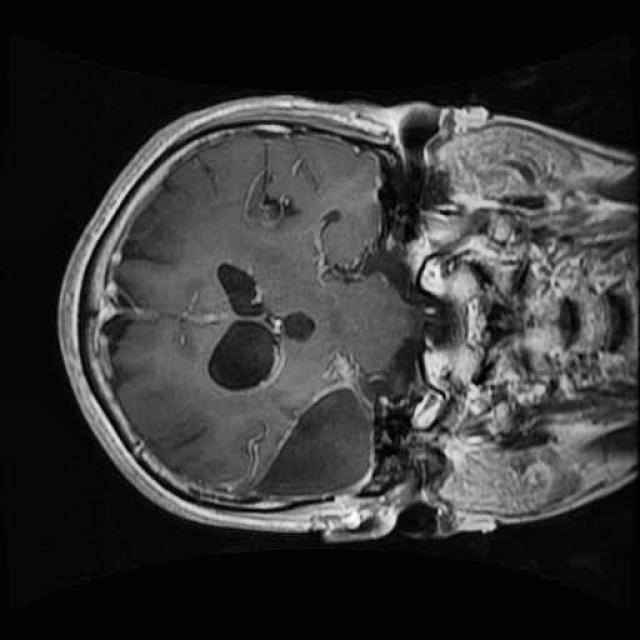Tumor: (242, 371, 386, 515)
